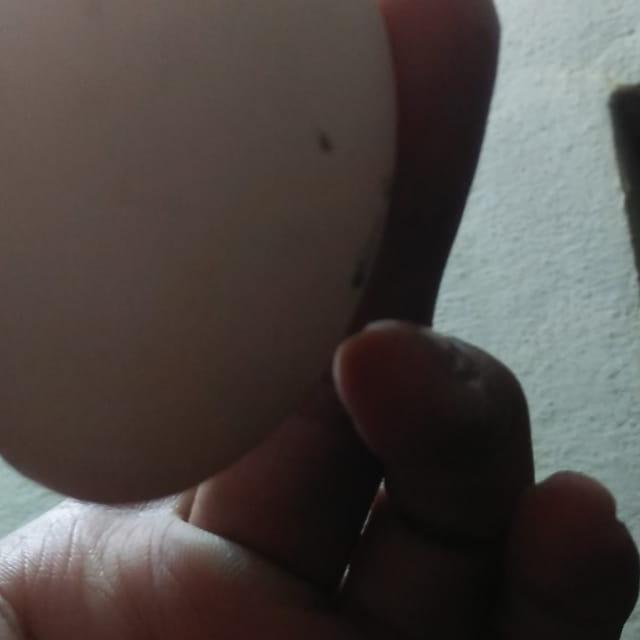egg: (0, 0, 431, 465)
